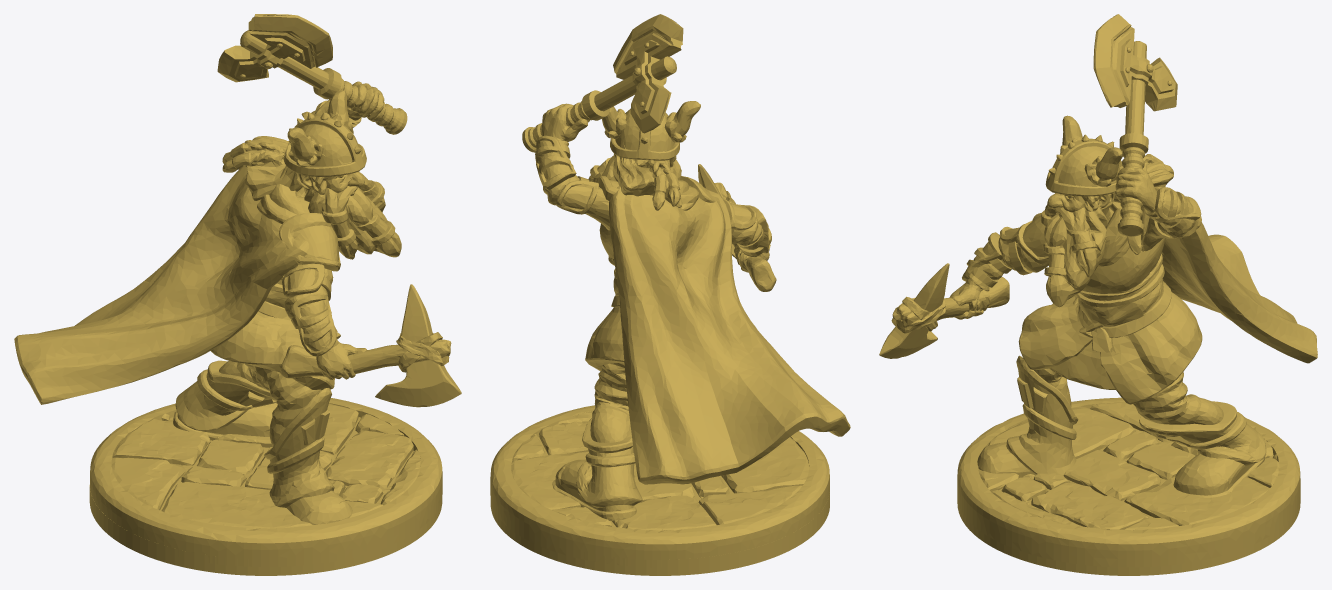
File: duric.glb
The picture shows the model from 3 angles, left to right: view 1: azimuth 30°, elevation 25°; view 2: azimuth 150°, elevation 25°; view 3: azimuth 270°, elevation 25°; orthographic projection. The views are drawn at different scales.
Parts seen in each view (by area): view 1: duric; view 2: duric; view 3: duric.
Part boxes in pixels (bbox=[...]): duric: bbox=[14, 14, 461, 575]; duric: bbox=[490, 14, 850, 575]; duric: bbox=[879, 14, 1317, 575].
Bounding box in the file's own units: 36.5 × 47 × 38.75.
